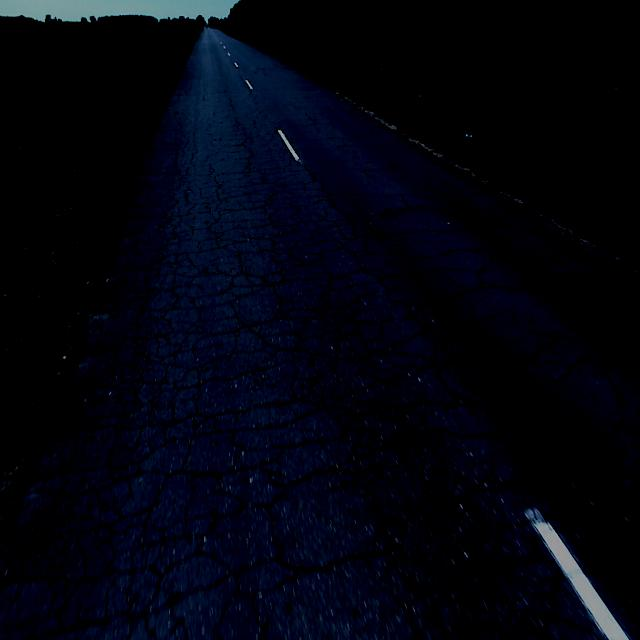road: (0, 27, 640, 639)
